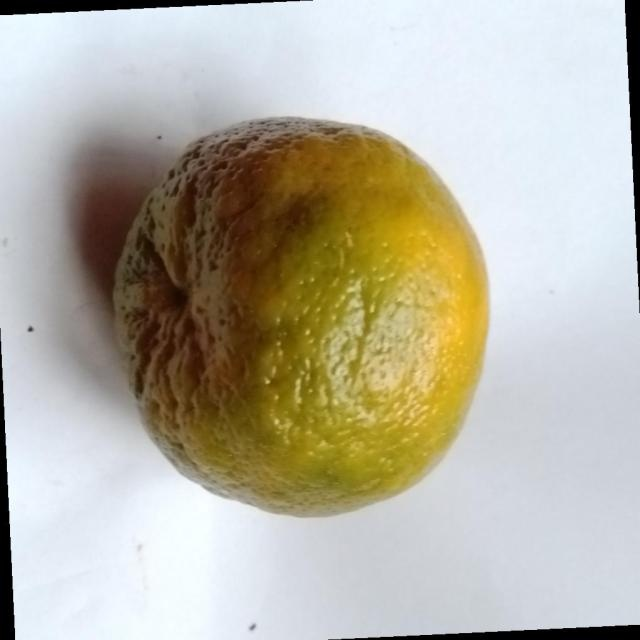agrume: (110, 114, 490, 518)
